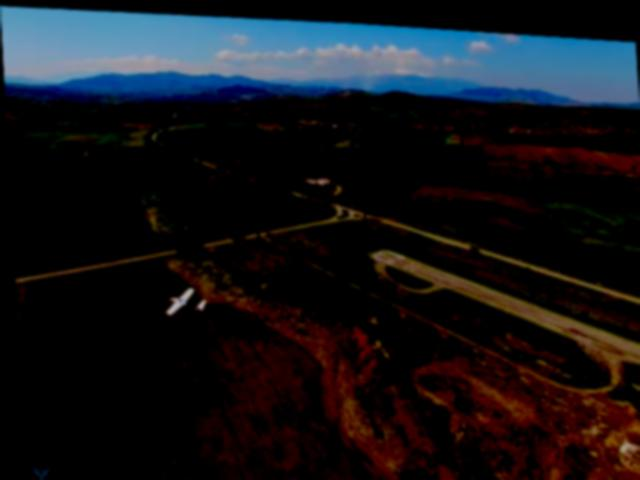uav: (159, 275, 208, 322)
